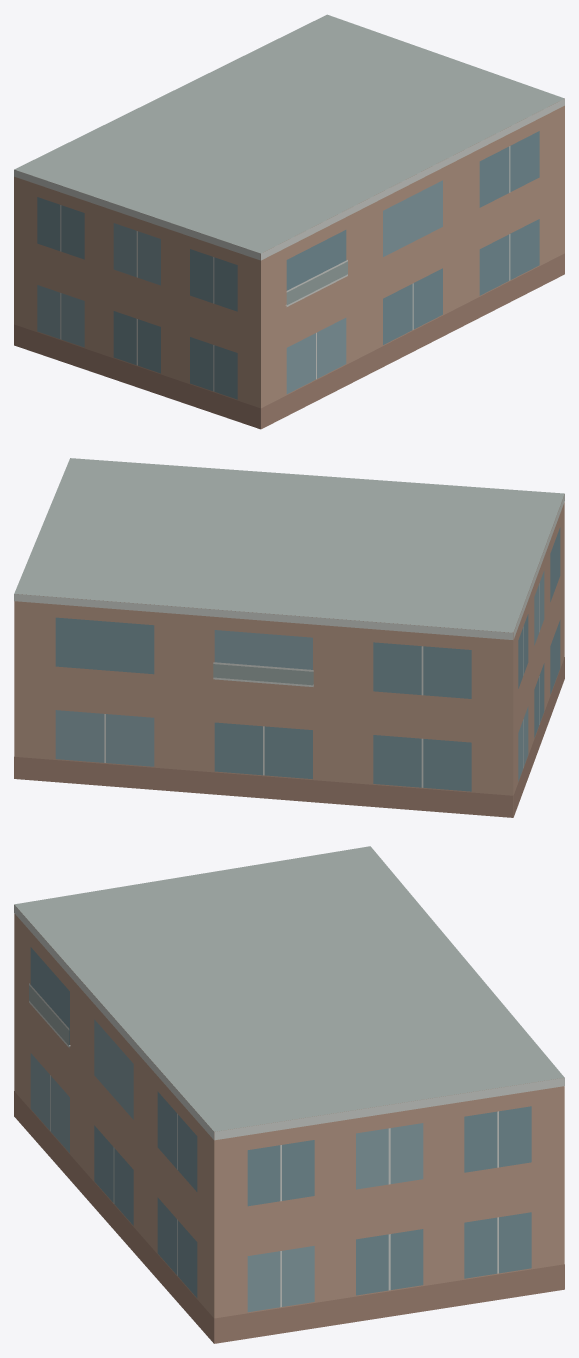
The model's file is survey-upis-32842494.glb.
3 views of the same model, one above another, from view 1: azimuth 30°, elevation 25°; view 2: azimuth 150°, elevation 25°; view 3: azimuth 270°, elevation 25° (orthographic). The views are drawn at different scales.
Parts seen in each view (by area): view 1: survey-upis-32842494.tmp; view 2: survey-upis-32842494.tmp; view 3: survey-upis-32842494.tmp.
Part boxes in pixels (x1,y1,x2,y2): survey-upis-32842494.tmp: [14, 14, 564, 429]; survey-upis-32842494.tmp: [14, 458, 564, 817]; survey-upis-32842494.tmp: [14, 846, 564, 1343].
Size of the model in its own units: 17.65 by 6.1 by 14.37.
